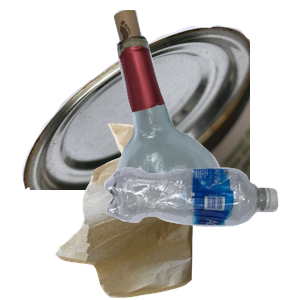glass: (89, 10, 300, 190)
metal: (19, 22, 259, 202)
plastic: (102, 165, 300, 300)
trash: (53, 121, 239, 300)
